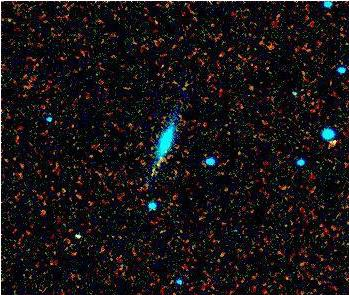star: (144, 148, 174, 178)
